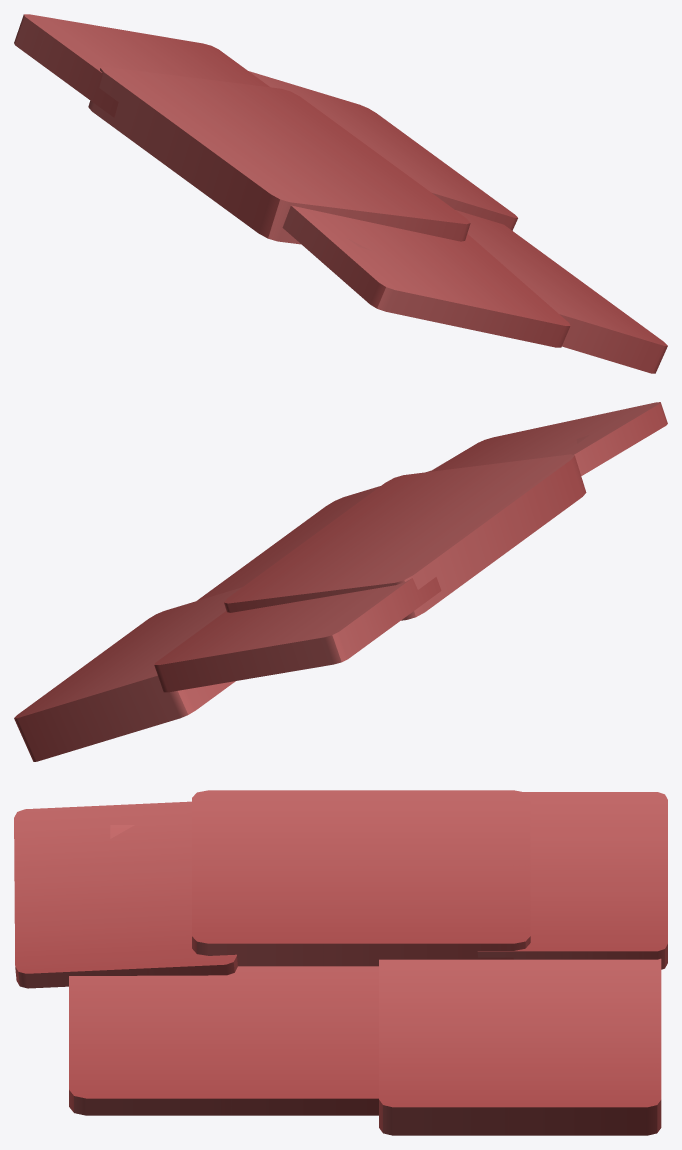
Rendered from RoofTile_Bot_1.fbx.
3 views of the same model, one above another, from view 1: azimuth 30°, elevation 25°; view 2: azimuth 150°, elevation 25°; view 3: azimuth 270°, elevation 25° (orthographic). The views are drawn at different scales.
Visible parts, largest first — view 1: rooftile_bot1_LOD0; view 2: rooftile_bot1_LOD0; view 3: rooftile_bot1_LOD0.
Part boxes in pixels (left/top/right/bottom): rooftile_bot1_LOD0: left=14, top=14, right=667, bottom=373; rooftile_bot1_LOD0: left=14, top=402, right=667, bottom=761; rooftile_bot1_LOD0: left=14, top=790, right=667, bottom=1135.
Bounding box in the file's own units: 0.8023 × 0.4707 × 1.39.
